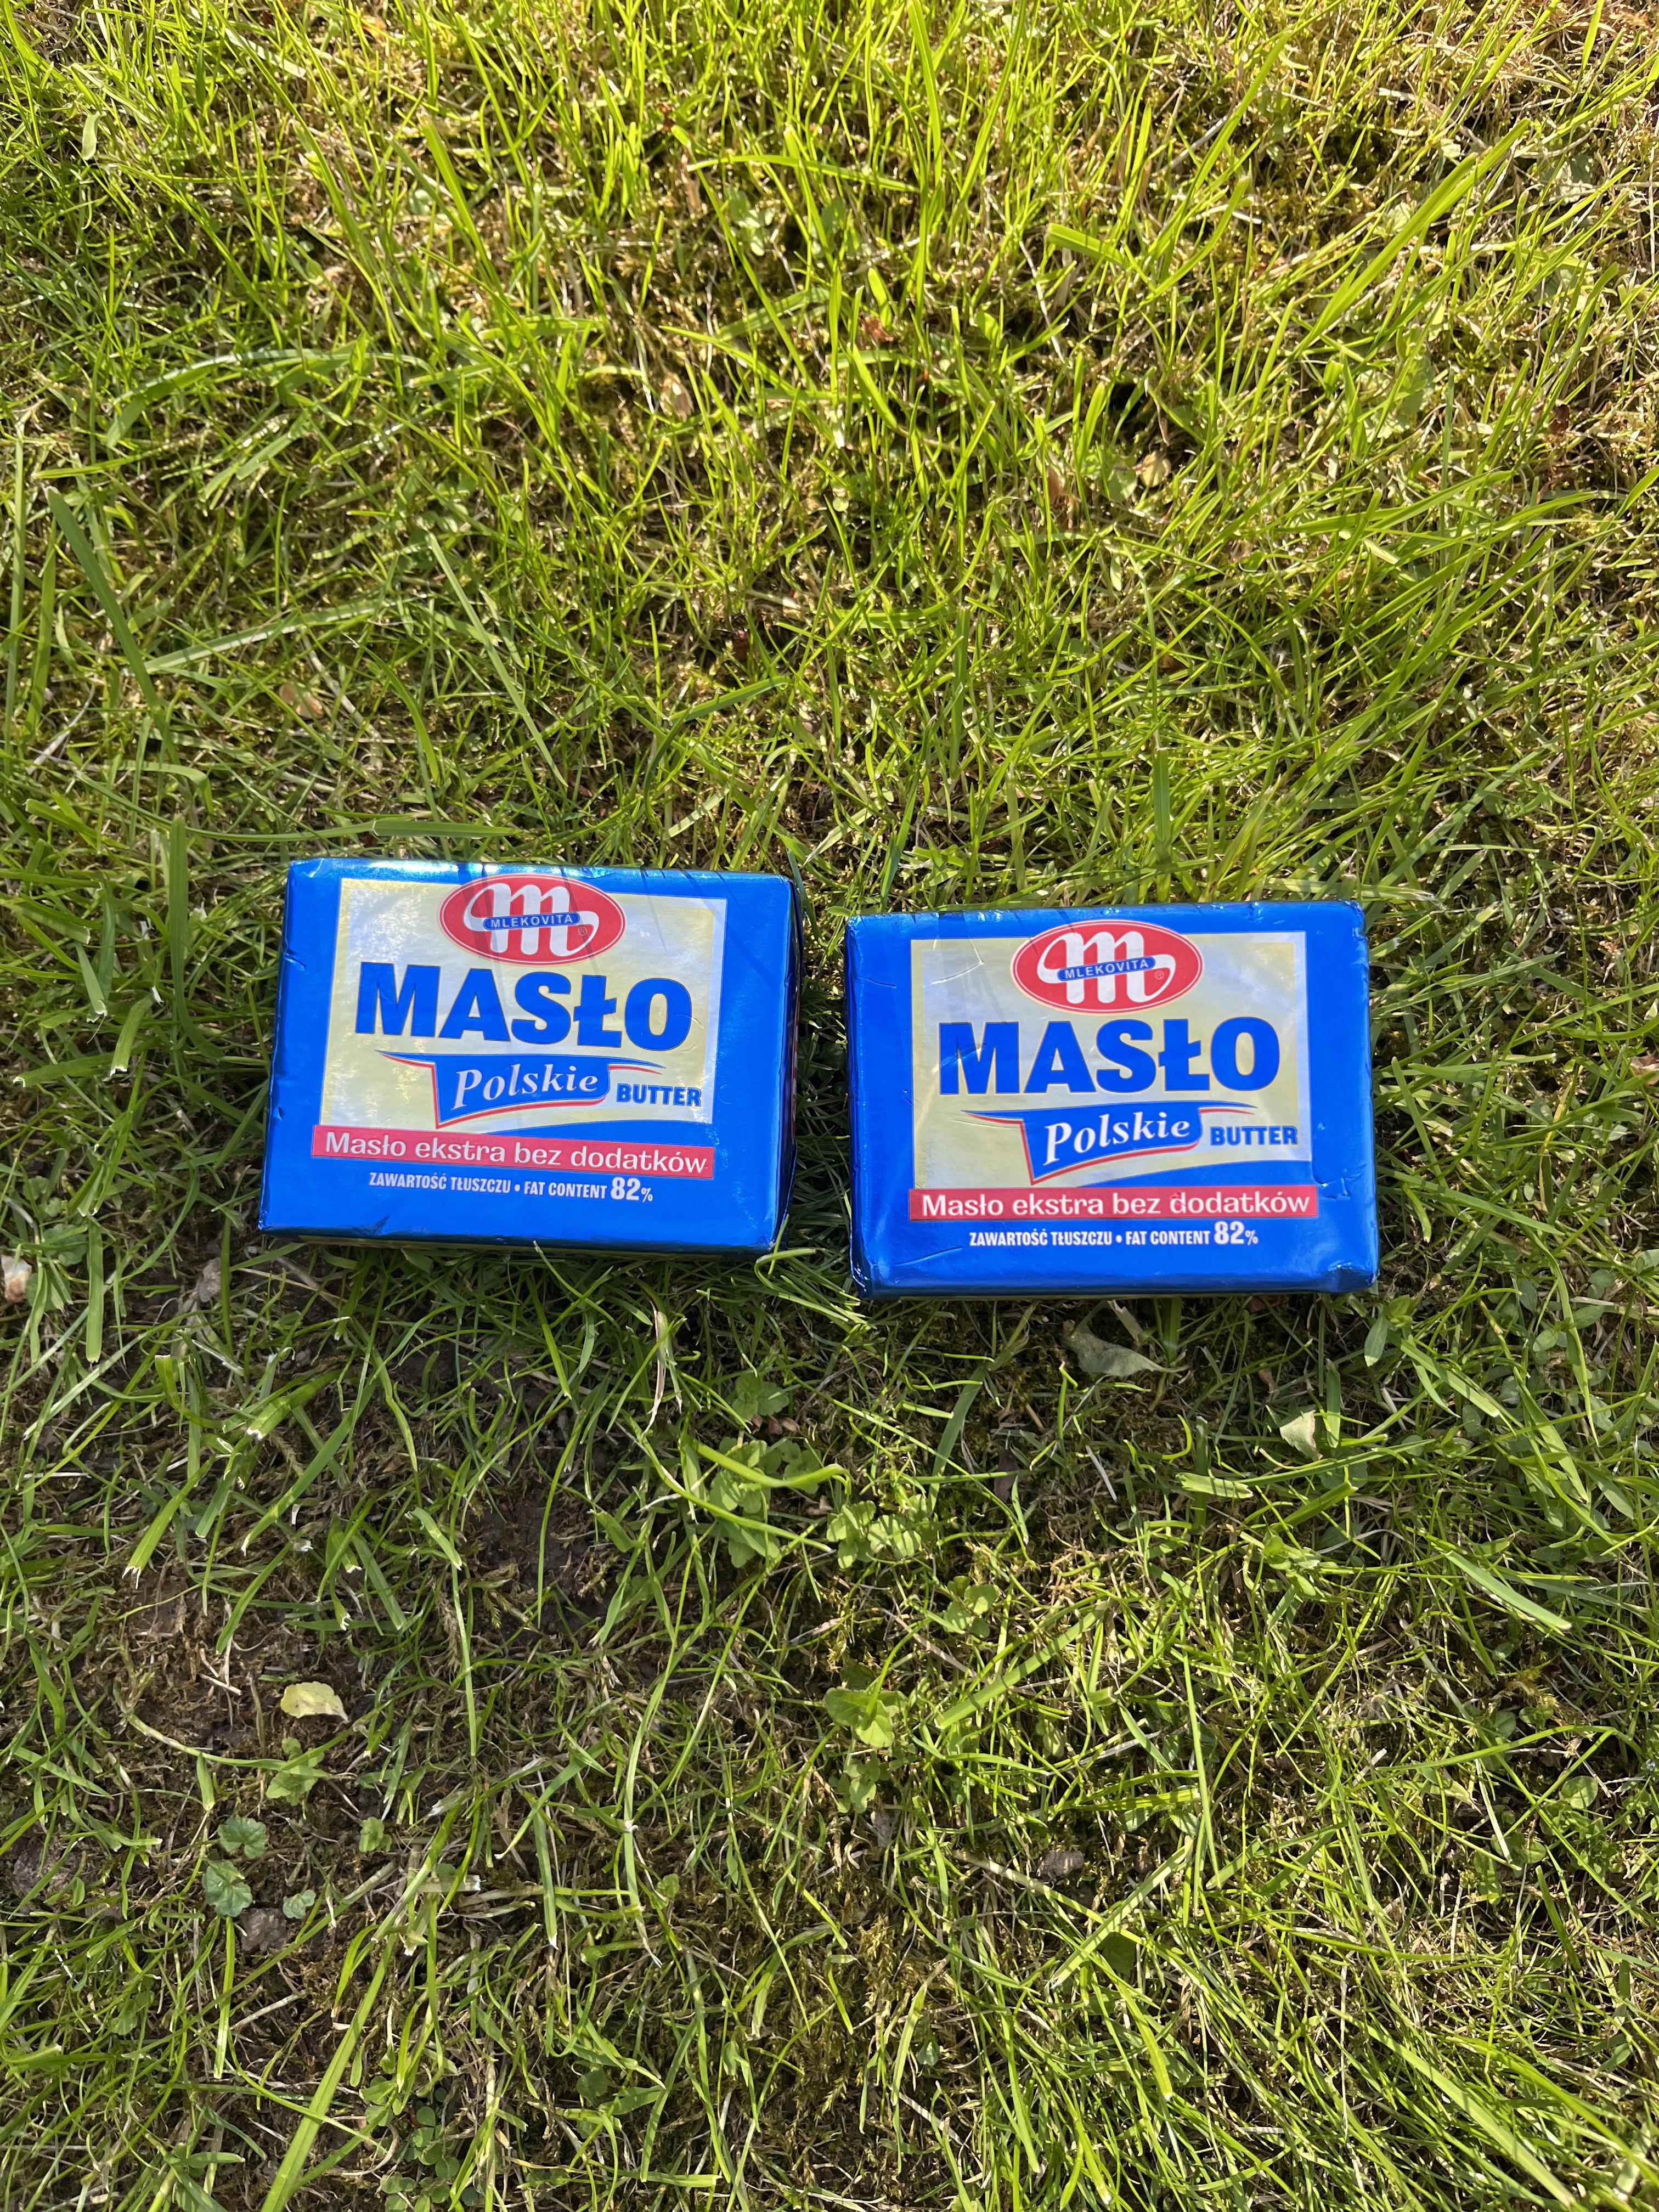Butter: (857, 902, 1385, 1296), (282, 862, 779, 1256)
